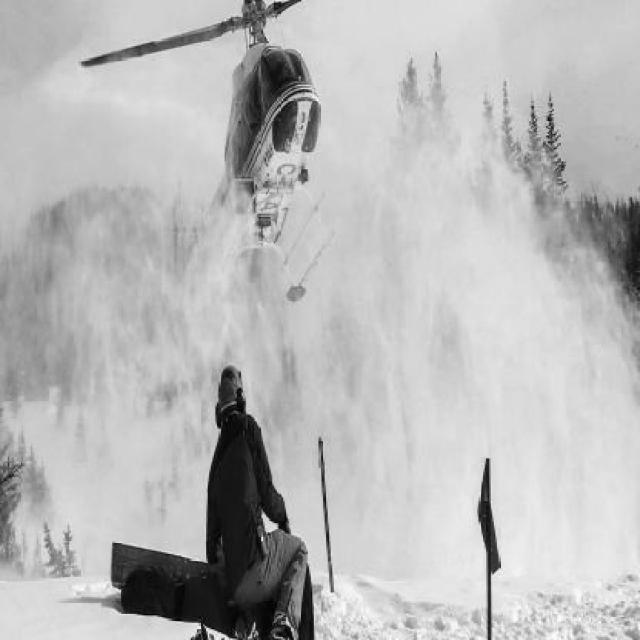helikopter: (70, 0, 356, 280)
